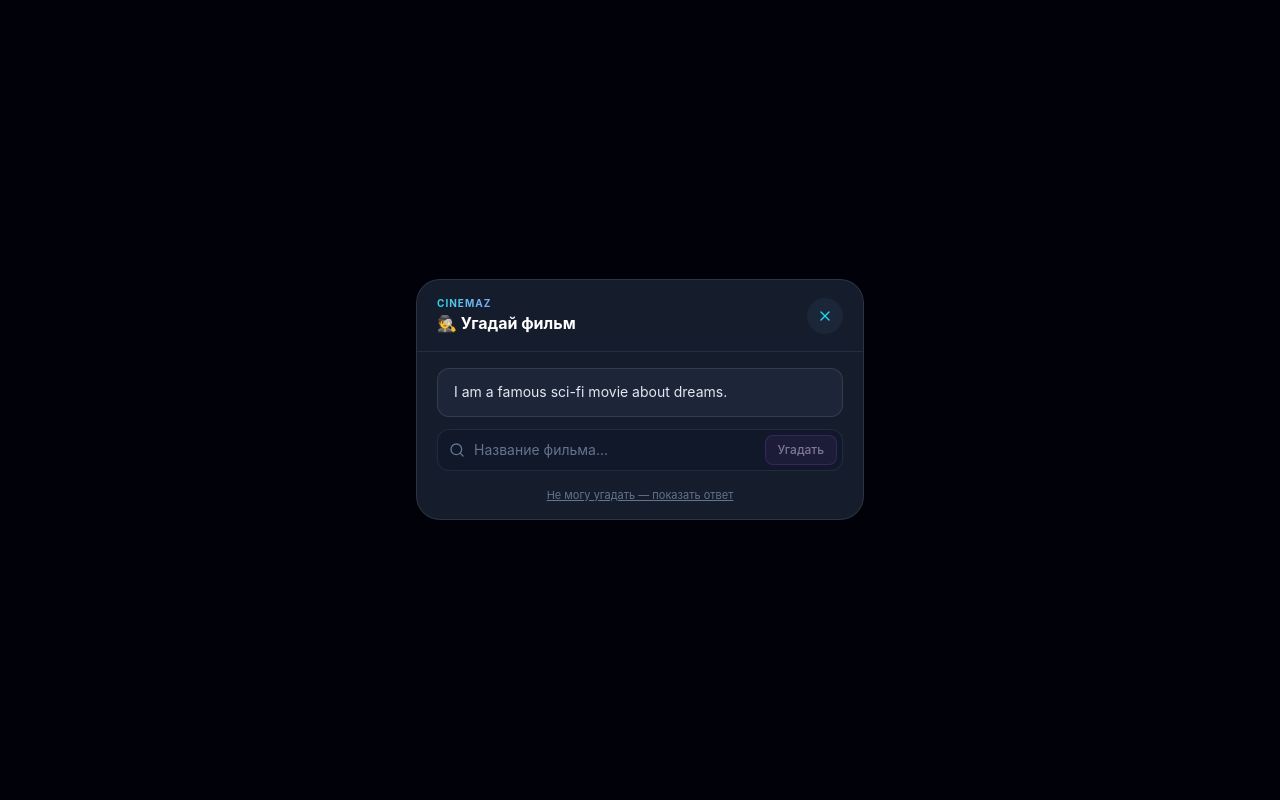
GuessGameModal Component › reveals the correct title on surrender
Click the button "Не могу угадать — показать ответ" at (640, 495), box x1=547 y1=487 x2=733 y2=504
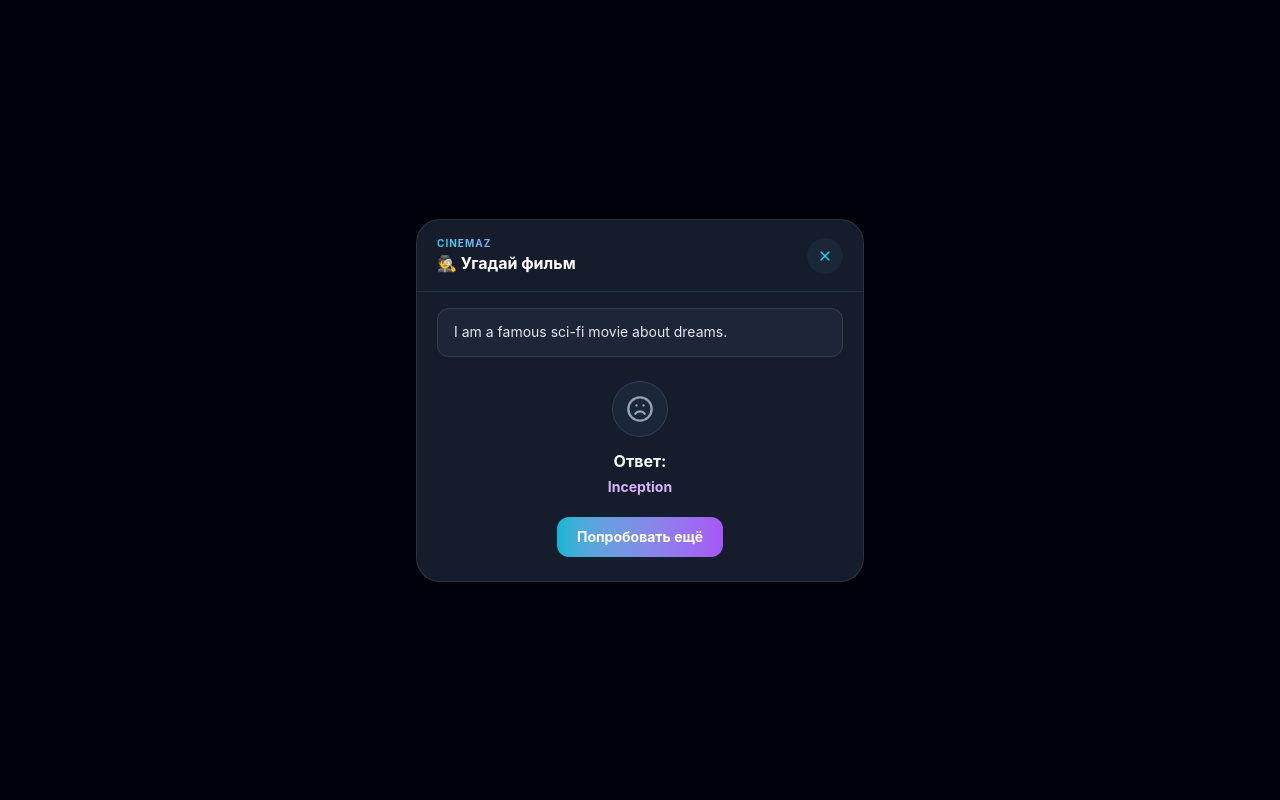
Check: the heading "Ответ:" is shown, box x1=614 y1=448 x2=666 y2=472
Check: the text "Inception" is shown, box x1=608 y1=476 x2=672 y2=496
Check: the button "Попробовать ещё" is shown, box x1=557 y1=516 x2=723 y2=556
